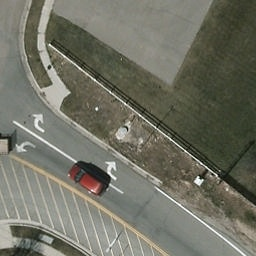car: (66, 164, 110, 199)
